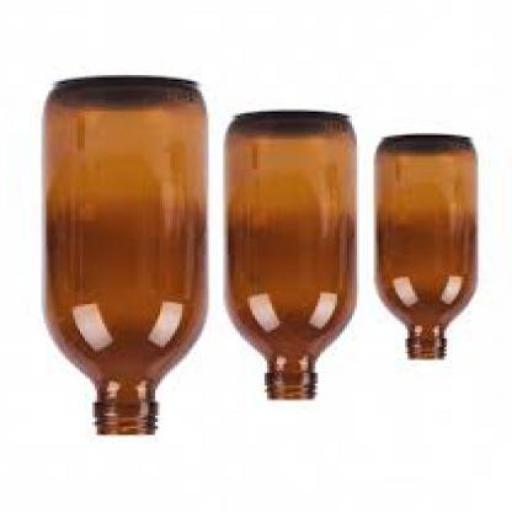glass: (44, 80, 208, 436), (226, 114, 359, 402), (379, 138, 485, 362)
